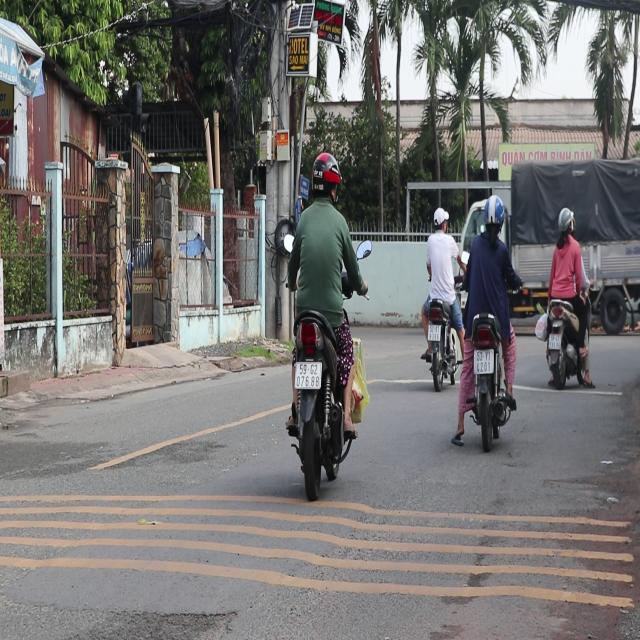helmet: (309, 150, 341, 204), (481, 193, 504, 236), (554, 205, 573, 238)
licenseplate: (281, 148, 370, 490), (456, 192, 520, 448), (540, 205, 592, 389), (418, 205, 463, 388)
motorcyclist: (432, 206, 448, 232)
nohelmet: (295, 361, 321, 389), (473, 349, 494, 374), (428, 324, 441, 339), (548, 334, 561, 348)
